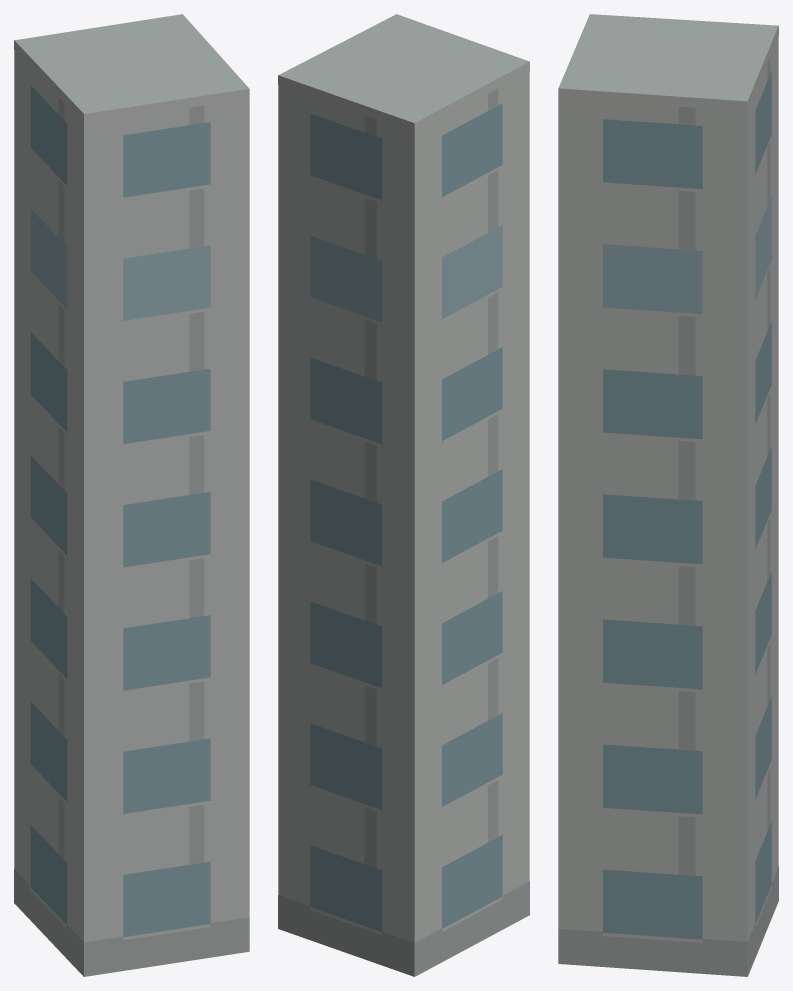
Rendered from survey-upis-32646577.glb.
3 renders of one model, left to right at view 1: azimuth 30°, elevation 25°; view 2: azimuth 150°, elevation 25°; view 3: azimuth 270°, elevation 25°, orthographic. The views are drawn at different scales.
Parts seen in each view (by area): view 1: survey-upis-32646577.tmp; view 2: survey-upis-32646577.tmp; view 3: survey-upis-32646577.tmp.
Boxes of the visible parts, bbox=[...] form: survey-upis-32646577.tmp: bbox=[14, 14, 249, 976]; survey-upis-32646577.tmp: bbox=[278, 14, 529, 976]; survey-upis-32646577.tmp: bbox=[558, 14, 778, 976].
Bounding box in the file's own units: 4.58 × 21.35 × 4.88.
